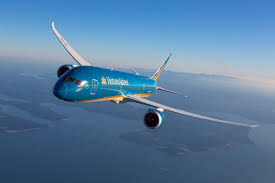maybay_dansu: (48, 22, 259, 134)
